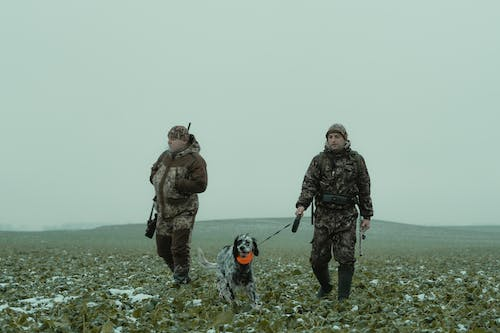gun: (144, 120, 193, 240), (359, 210, 367, 258)
